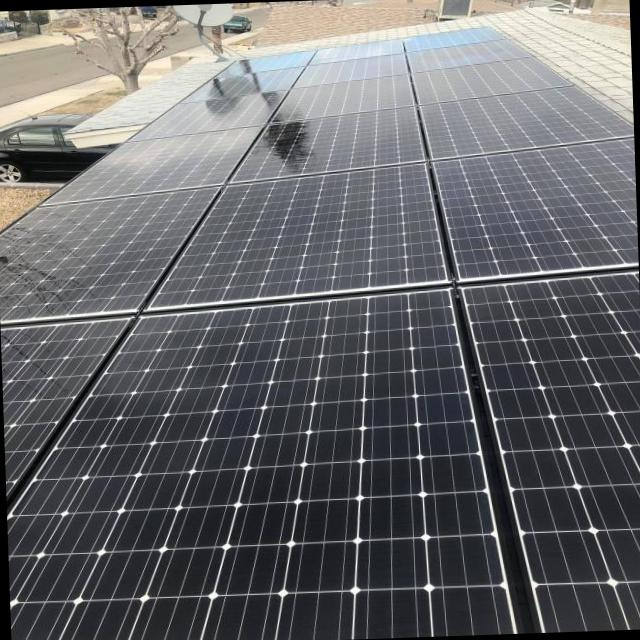faulty: (0, 184, 215, 326), (0, 318, 131, 501)
no faulty: (7, 294, 516, 640), (467, 276, 640, 633), (152, 166, 440, 304), (433, 140, 637, 279), (46, 126, 261, 204), (420, 86, 631, 159), (229, 109, 423, 182), (129, 89, 287, 139), (413, 56, 568, 103), (273, 72, 413, 120), (408, 39, 524, 72), (293, 53, 406, 86), (184, 66, 302, 97), (309, 38, 403, 64), (405, 26, 501, 51), (218, 51, 315, 73)
